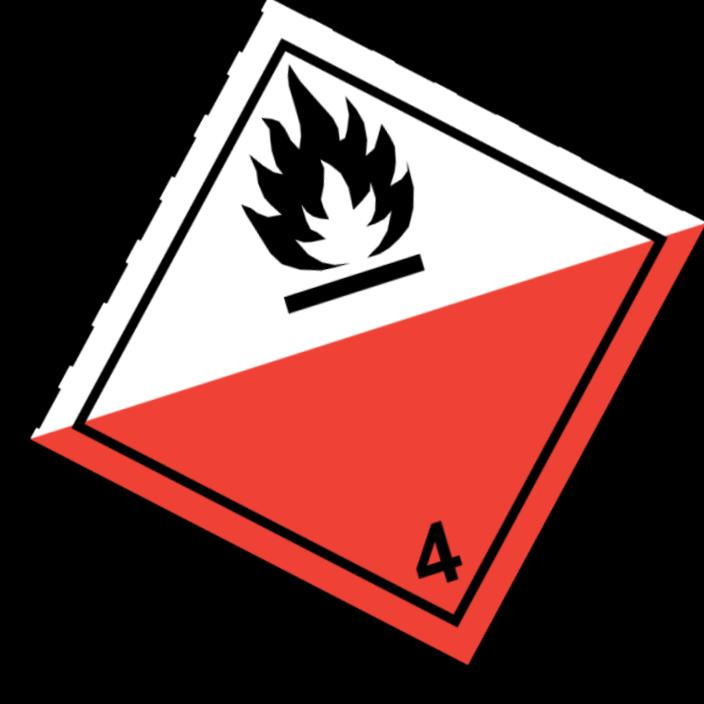charging station: (29, 0, 702, 663)
